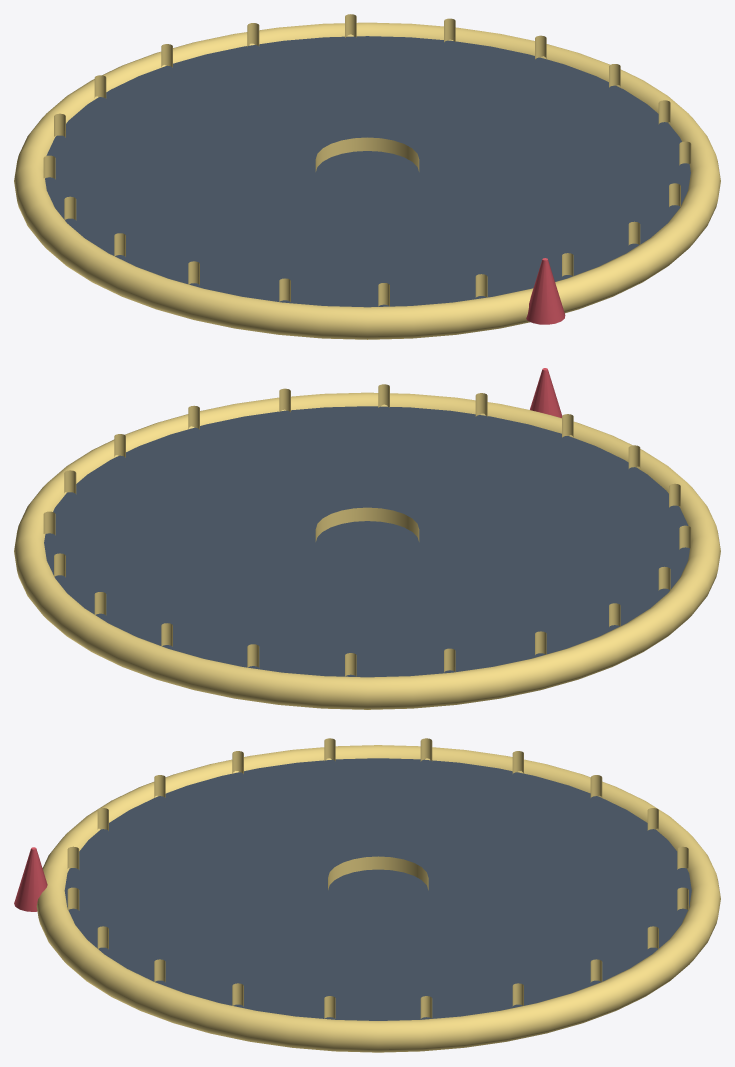
File: wheel_of_fortune.glb
The picture shows the model from 3 angles, top to bottom: view 1: azimuth 30°, elevation 25°; view 2: azimuth 150°, elevation 25°; view 3: azimuth 270°, elevation 25°; orthographic projection. The views are drawn at different scales.
Parts seen in each view (by area): view 1: WheelDisc, WheelFlapper; view 2: WheelDisc, WheelFlapper; view 3: WheelDisc, WheelFlapper.
Boxes of the visible parts, bbox=[...] form: WheelDisc: bbox=[14, 14, 720, 339]; WheelFlapper: bbox=[526, 258, 565, 324]; WheelDisc: bbox=[14, 384, 720, 709]; WheelFlapper: bbox=[530, 368, 562, 417]; WheelDisc: bbox=[36, 738, 720, 1052]; WheelFlapper: bbox=[14, 847, 47, 911].
Bounding box in the file's own units: 3.82 × 0.4 × 3.94.
